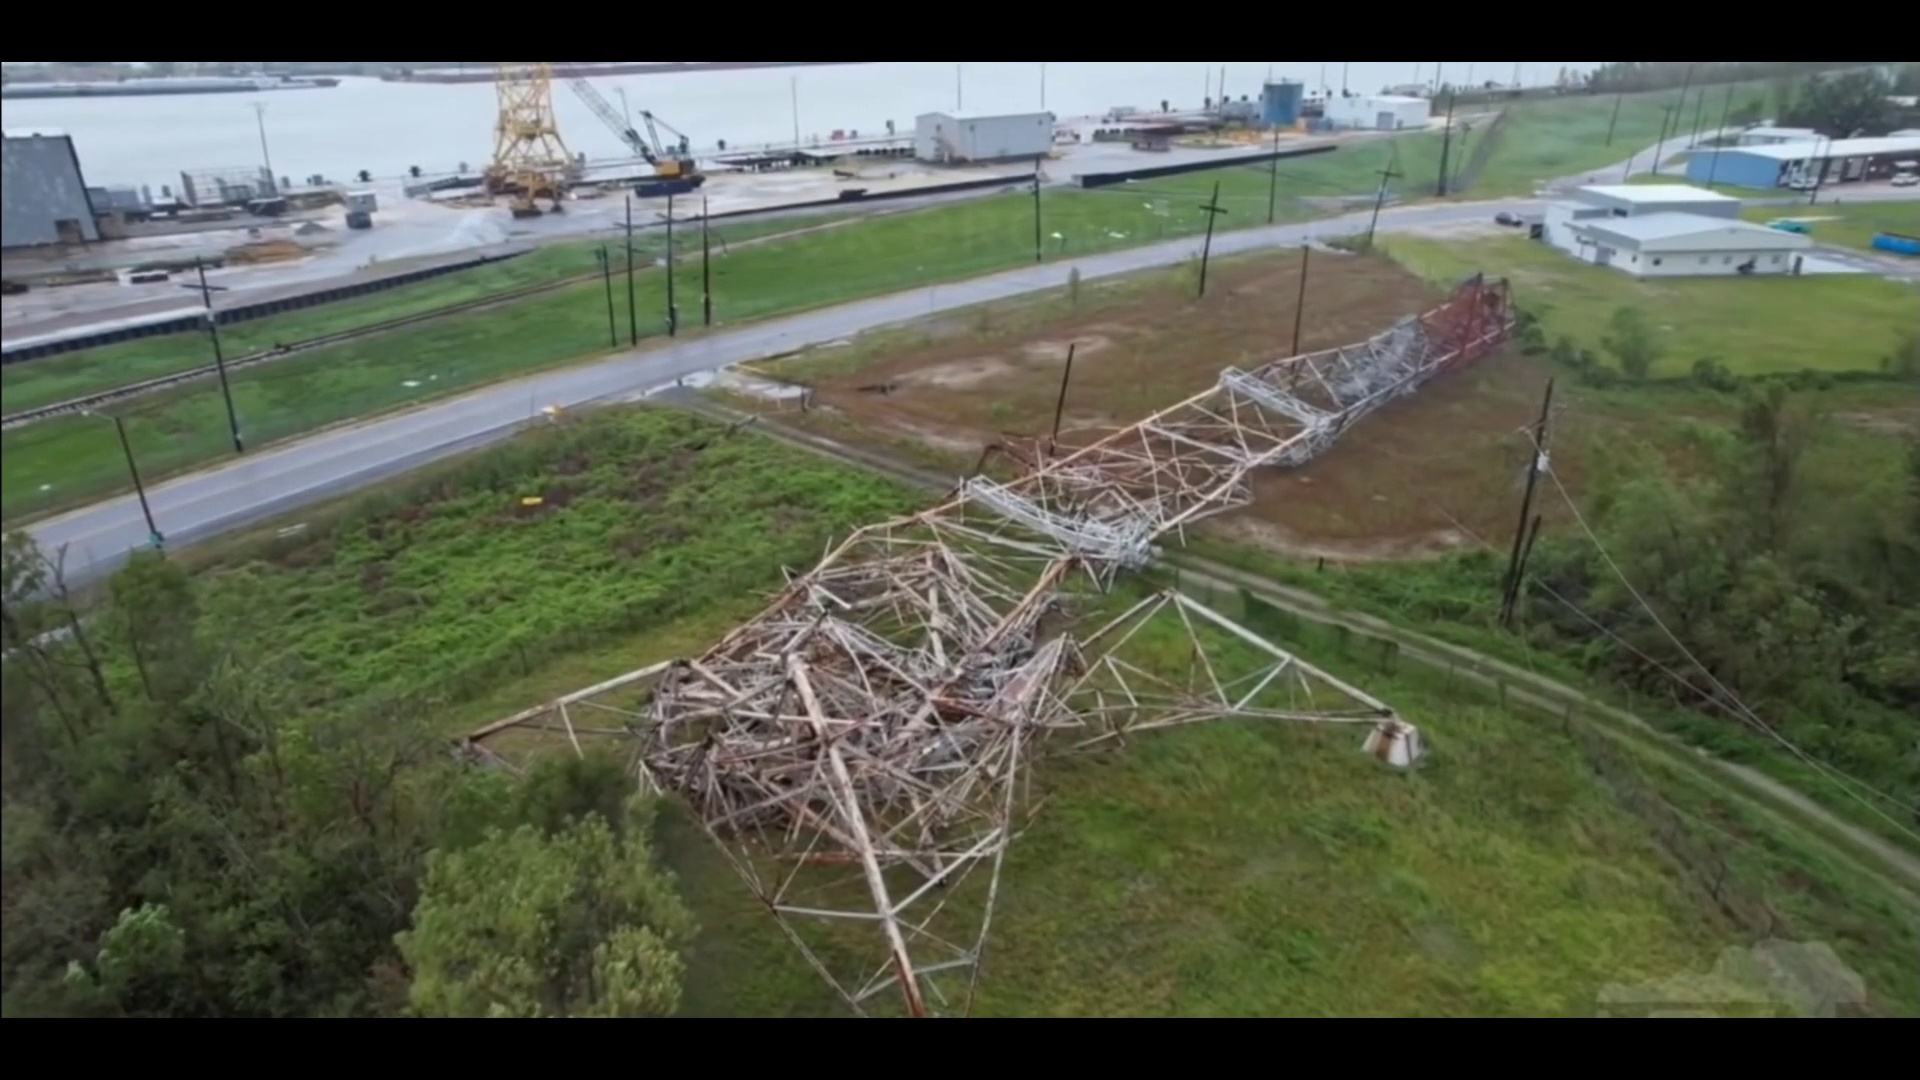tower_down: (485, 164, 1538, 1004)
